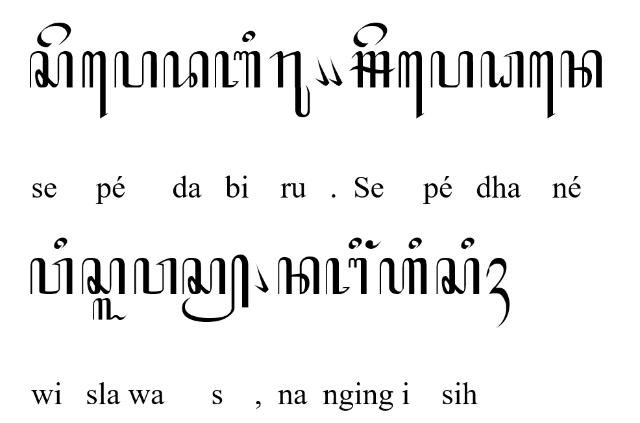-s: (180, 255, 248, 324)
S: (348, 50, 396, 88)
_h1: (486, 257, 510, 329)
_l: (92, 298, 128, 321)
b: (214, 50, 262, 89)
d: (164, 50, 208, 89)
dh: (480, 50, 524, 88)
e: (36, 22, 72, 48), (353, 22, 389, 48)
e1: (528, 50, 556, 120), (82, 50, 108, 120), (398, 50, 424, 120)
h: (379, 258, 428, 296)
i: (242, 29, 256, 43), (348, 236, 362, 250), (460, 238, 476, 250), (54, 237, 68, 249), (408, 237, 422, 249)
kom: (314, 56, 330, 88), (253, 262, 269, 294), (328, 56, 342, 86)
n: (560, 49, 604, 88), (278, 256, 320, 296)
ng: (365, 240, 381, 250)
nga: (325, 258, 367, 296)
p: (114, 50, 158, 89), (430, 50, 474, 88)
ru: (270, 50, 310, 118)
s: (29, 50, 73, 88), (81, 258, 125, 296), (436, 258, 480, 296)
w: (30, 258, 74, 296), (134, 257, 178, 295)
